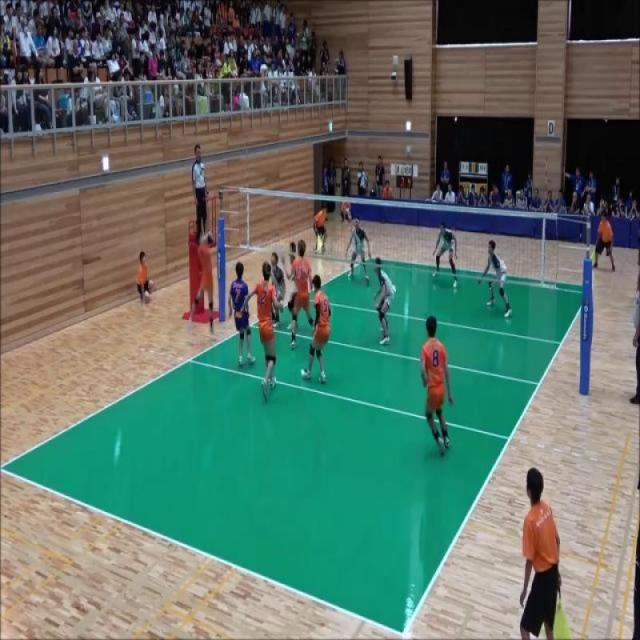volleyball: (261, 64, 268, 76), (346, 208, 350, 215)
